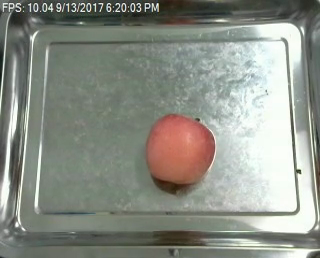Apple: (141, 111, 218, 189)
